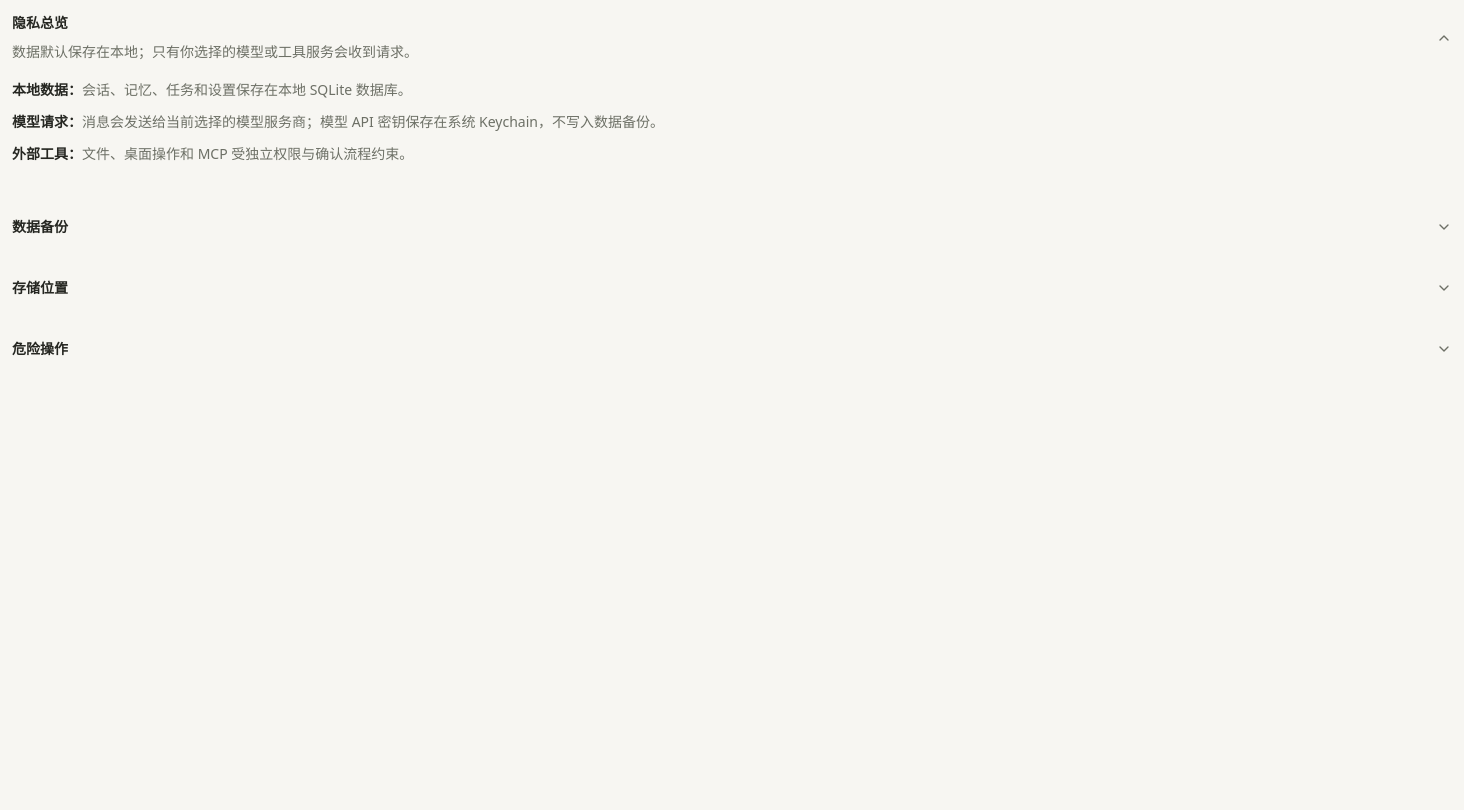
DataSettings › distinguishes ordinary and encrypted MCP credential backups without offering to reveal values
Click the button "数据备份". click: (40, 227)
box: x1=12 y1=218 x2=1452 y2=236
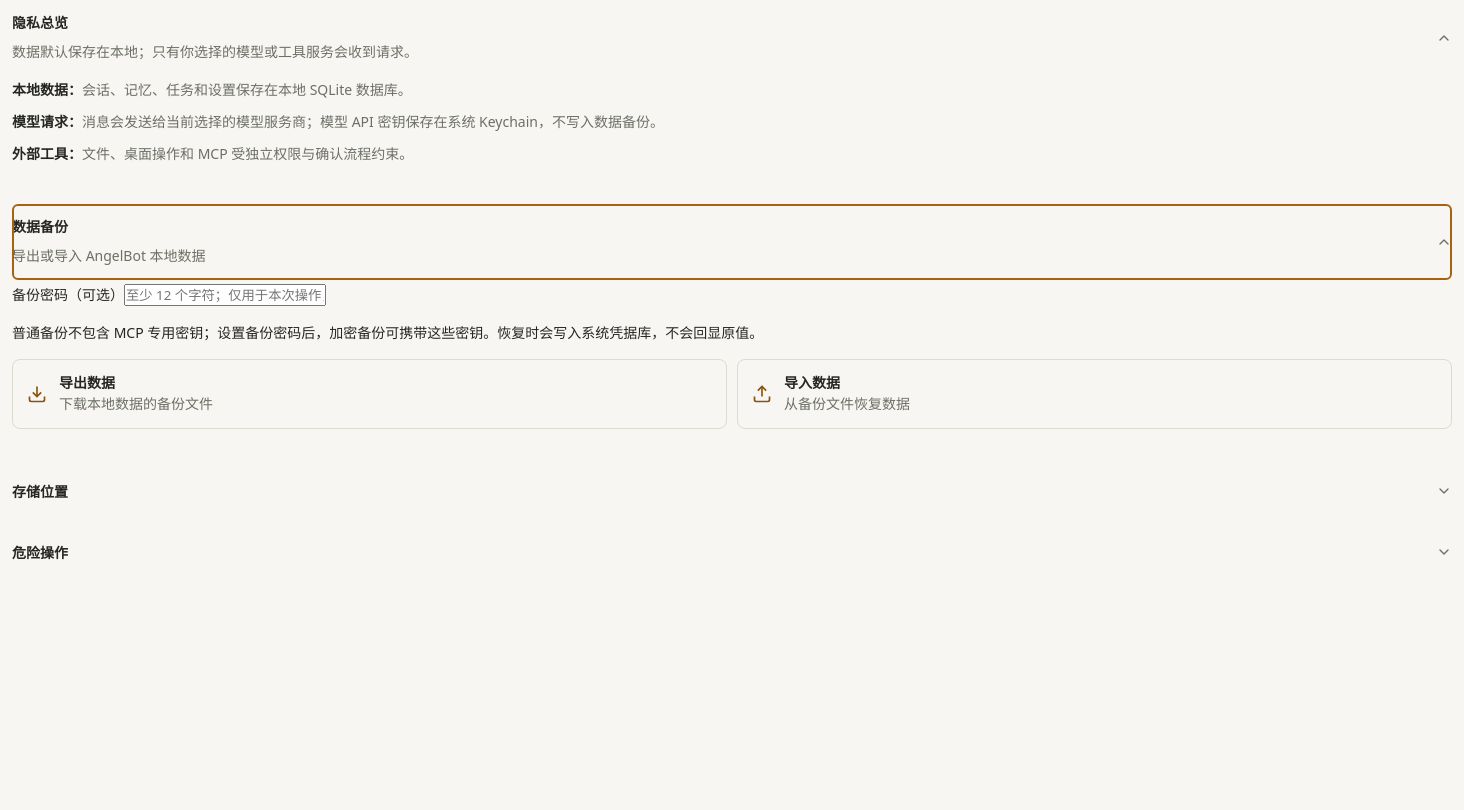
Expected: the text "普通备份不包含 MCP 专用密钥；设置备份密码后，加密备份可携带这些密钥。恢复时会写入系统凭据库，不会回显原值。" is shown, x1=12 y1=323 x2=763 y2=342
